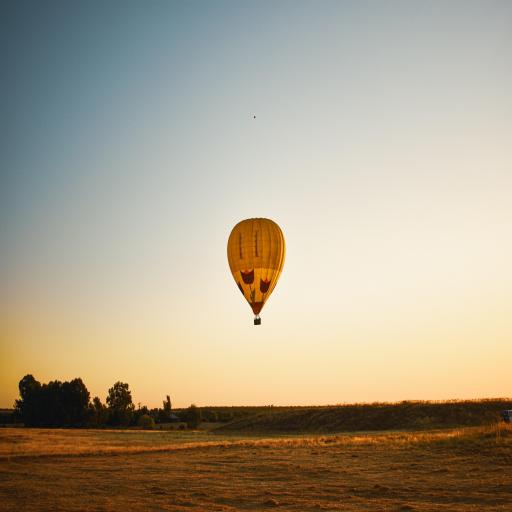hot air ballon: (226, 213, 286, 328)
